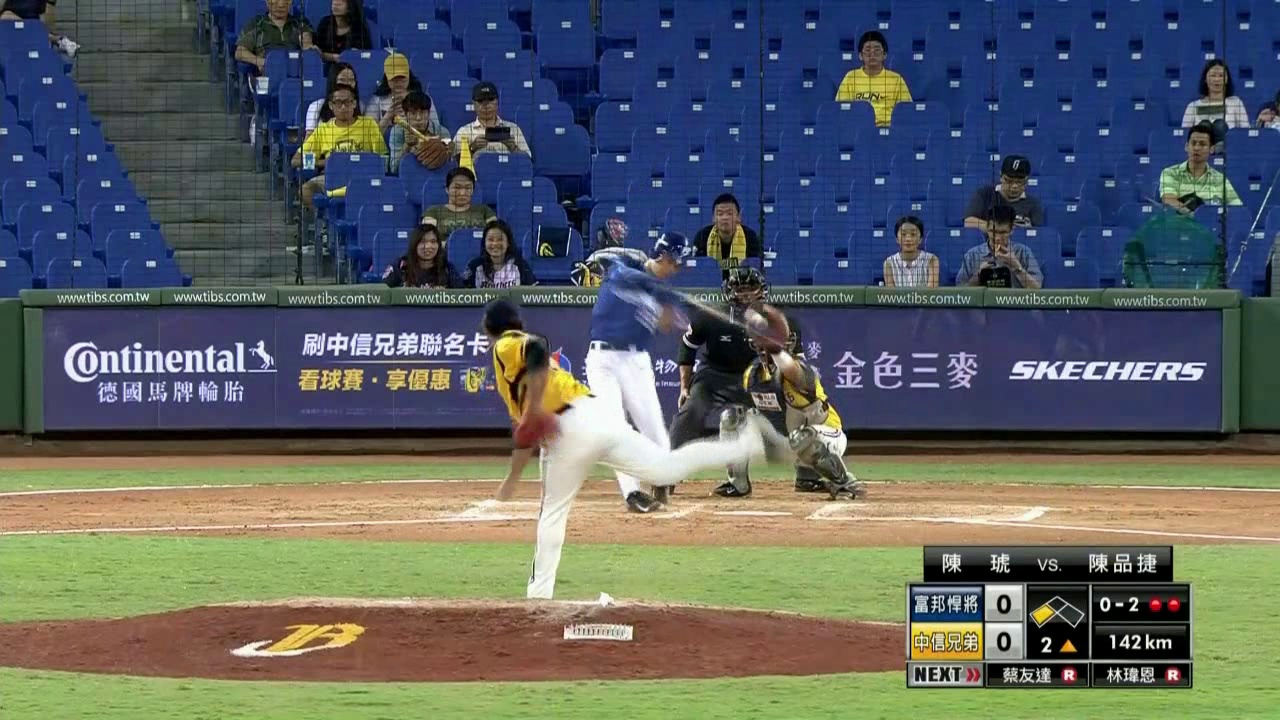ball: (741, 304, 770, 331)
base: (1026, 591, 1088, 631)
bat: (639, 275, 744, 334)
out: (1146, 588, 1182, 618)
score1: (986, 587, 1023, 619)
score2: (986, 622, 1022, 656)
session: (1027, 631, 1089, 658)
speed: (1097, 630, 1180, 657)
strikeball: (1093, 587, 1144, 619)
